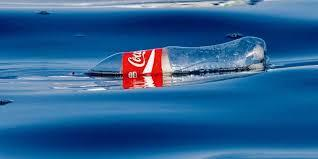Plastic bottle: (87, 32, 270, 89)
